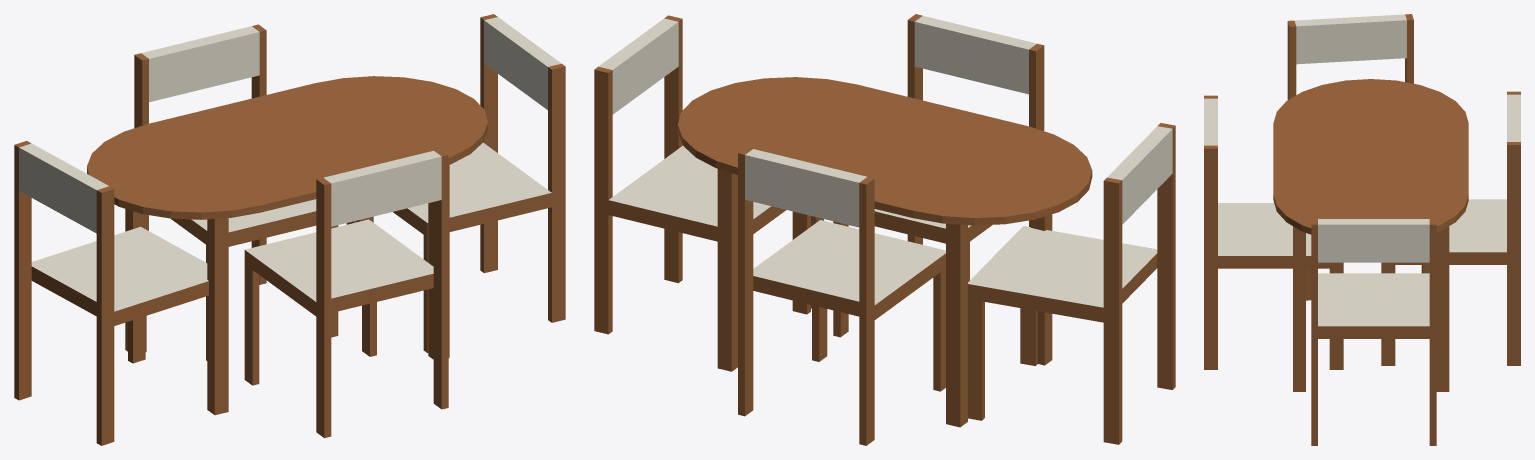
Rendered from Dining Set.glb.
The picture shows the model from 3 angles, left to right: view 1: azimuth 30°, elevation 25°; view 2: azimuth 150°, elevation 25°; view 3: azimuth 270°, elevation 25°; orthographic projection. The views are drawn at different scales.
Visible parts, largest first — view 1: Node; view 2: Node; view 3: Node.
Part boxes in pixels (bbox=[...]): Node: bbox=[14, 14, 565, 445]; Node: bbox=[594, 14, 1175, 445]; Node: bbox=[1204, 14, 1520, 445].
Bounding box in the file's own units: 71.49 × 35 × 45.42.
